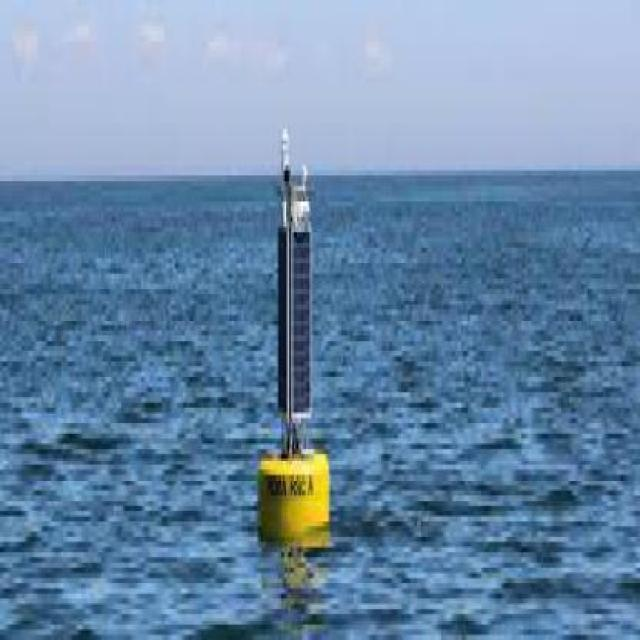buoy: (251, 104, 340, 595)
